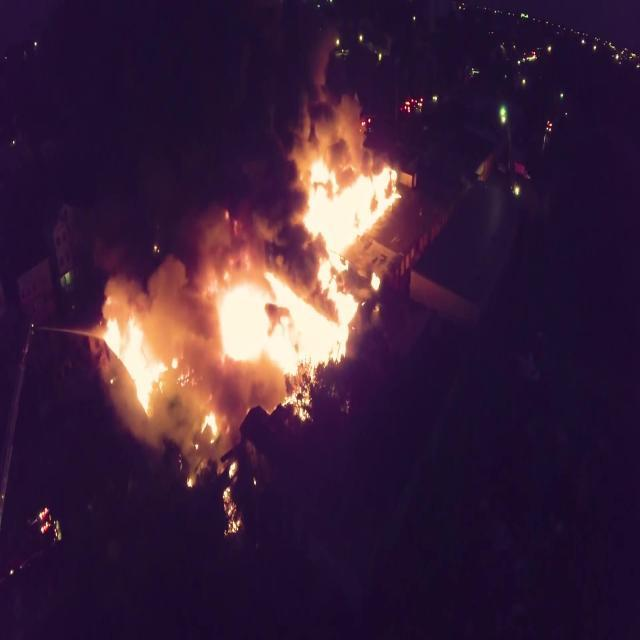Fire: (97, 156, 401, 450)
Smoke: (102, 0, 368, 323)
